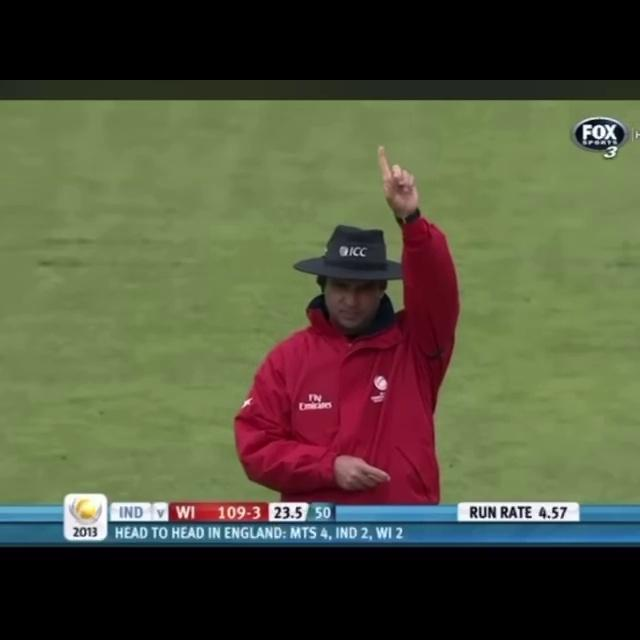umpire: (107, 129, 572, 507)
